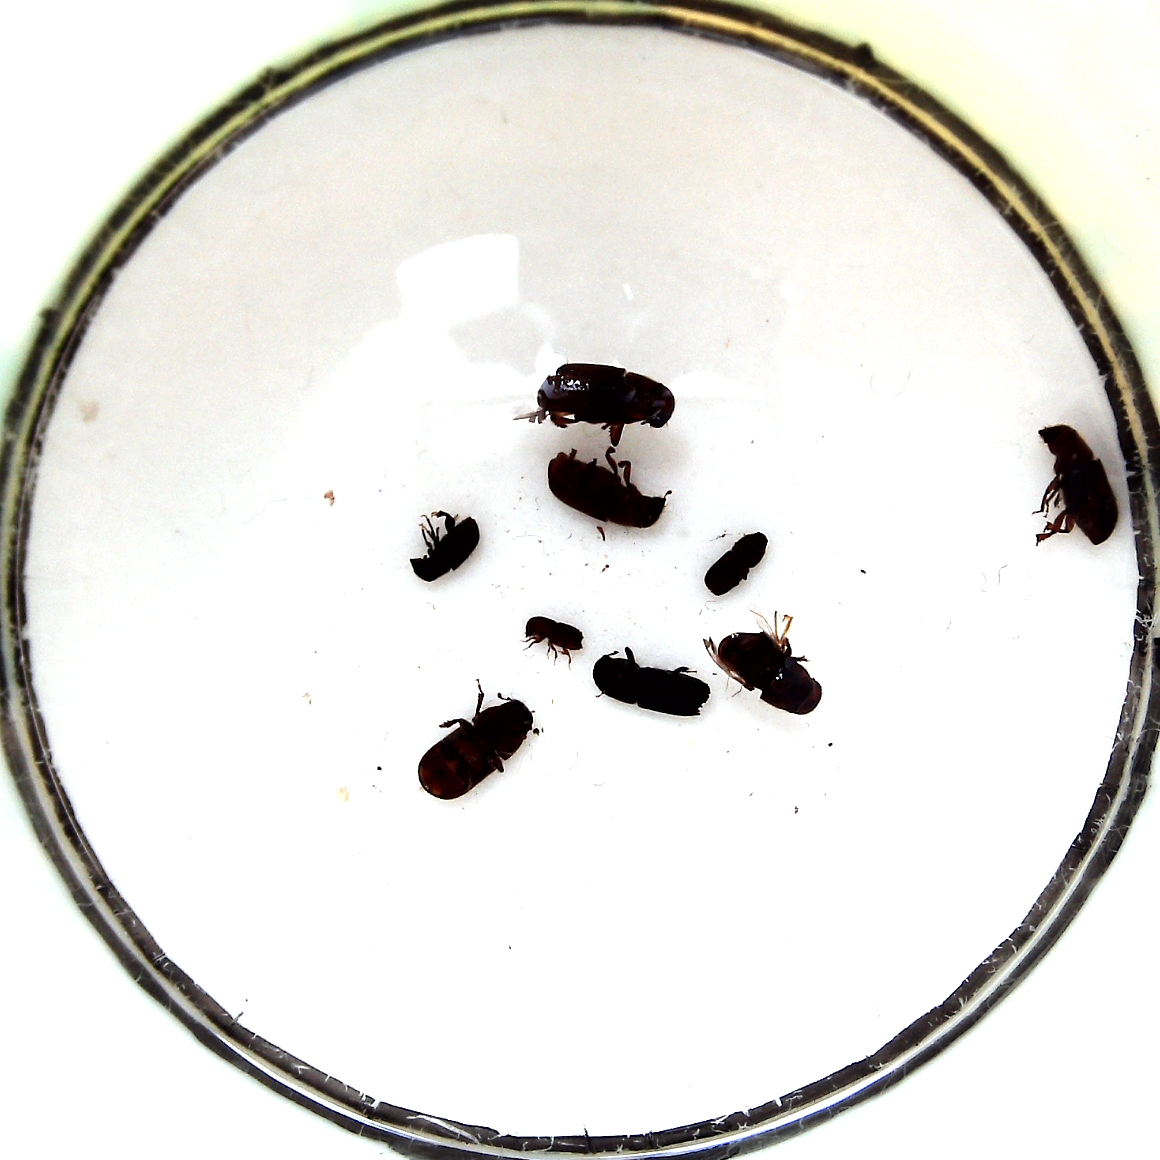Boerner: (592, 649, 712, 718)
Leconte: (417, 684, 538, 802), (709, 618, 825, 719), (536, 361, 677, 445), (1027, 423, 1121, 547), (547, 446, 670, 530)
Linnaeus: (702, 530, 772, 595)
acuminatus: (521, 616, 585, 664)
armandi: (410, 511, 480, 583)
